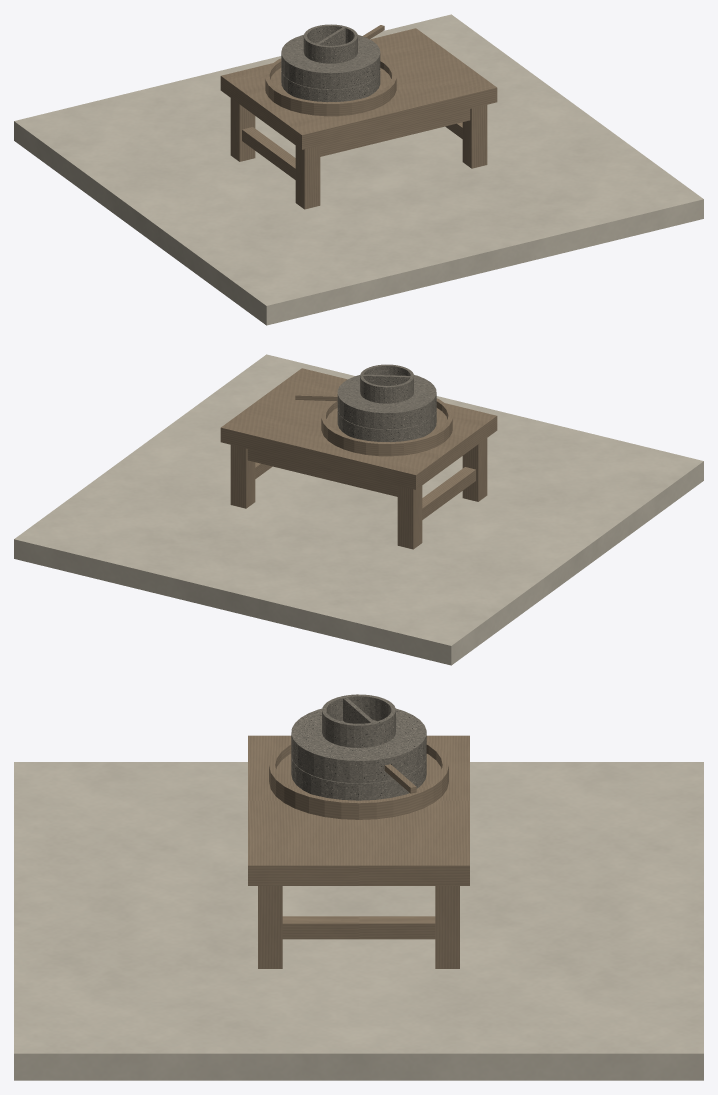
File: hand-mill-B-LOD1.glb
The picture shows the model from 3 angles, top to bottom: view 1: azimuth 30°, elevation 25°; view 2: azimuth 150°, elevation 25°; view 3: azimuth 270°, elevation 25°; orthographic projection. The views are drawn at different scales.
Visible parts, largest first — view 1: B_presentation_ground, B_wood_bed_C, B_upper_stone_C, B_stand_apron_C, B_collection_lip_C, B_feed_ring_C, B_stand_post_C, B_stand_post_C.002, B_lower_stone_C, B_collection_floor_C, B_stand_cross_tie_C, B_stand_post_C.001; view 2: B_presentation_ground, B_wood_bed_C, B_upper_stone_C, B_stand_apron_C.001, B_collection_lip_C, B_stand_post_C.001, B_feed_ring_C, B_stand_post_C.003, B_lower_stone_C, B_collection_floor_C, B_stand_cross_tie_C, B_stand_post_C; view 3: B_presentation_ground, B_wood_bed_C, B_upper_stone_C, B_stand_cross_tie_C.001, B_feed_ring_C, B_collection_lip_C, B_lower_stone_C, B_collection_floor_C, B_stand_post_C.002, B_stand_post_C.003.
Part boxes in pixels (<box>): B_presentation_ground: <box>14,14,703,325</box>; B_wood_bed_C: <box>220,28,497,149</box>; B_upper_stone_C: <box>281,34,380,89</box>; B_stand_apron_C: <box>320,109,470,156</box>; B_collection_lip_C: <box>265,58,396,110</box>; B_feed_ring_C: <box>303,24,357,63</box>; B_stand_post_C: <box>295,145,320,209</box>; B_stand_post_C.002: <box>462,105,487,168</box>; B_lower_stone_C: <box>281,70,380,102</box>; B_collection_floor_C: <box>265,68,396,116</box>; B_stand_cross_tie_C: <box>242,127,295,179</box>; B_stand_post_C.001: <box>230,98,255,161</box>; B_presentation_ground: <box>14,354,703,665</box>; B_wood_bed_C: <box>220,368,497,489</box>; B_upper_stone_C: <box>337,375,436,429</box>; B_stand_apron_C.001: <box>247,449,397,496</box>; B_collection_lip_C: <box>321,398,452,450</box>; B_stand_post_C.001: <box>397,485,422,549</box>; B_feed_ring_C: <box>360,364,413,403</box>; B_stand_post_C.003: <box>230,445,255,508</box>; B_lower_stone_C: <box>337,410,436,442</box>; B_collection_floor_C: <box>321,408,452,456</box>; B_stand_cross_tie_C: <box>422,467,475,519</box>; B_stand_post_C: <box>462,438,487,501</box>; B_presentation_ground: <box>14,762,703,1080</box>; B_wood_bed_C: <box>248,735,469,885</box>; B_upper_stone_C: <box>291,708,426,783</box>; B_stand_cross_tie_C.001: <box>282,916,435,939</box>; B_feed_ring_C: <box>322,694,395,747</box>; B_collection_lip_C: <box>269,741,448,811</box>; B_lower_stone_C: <box>291,755,426,800</box>; B_collection_floor_C: <box>269,754,448,819</box>; B_stand_post_C.002: <box>258,886,282,968</box>; B_stand_post_C.003: <box>435,886,459,968</box>.
Bounding box in the file's own units: 2.8 × 0.922 × 2.8.
3 materials, 3 textured.
